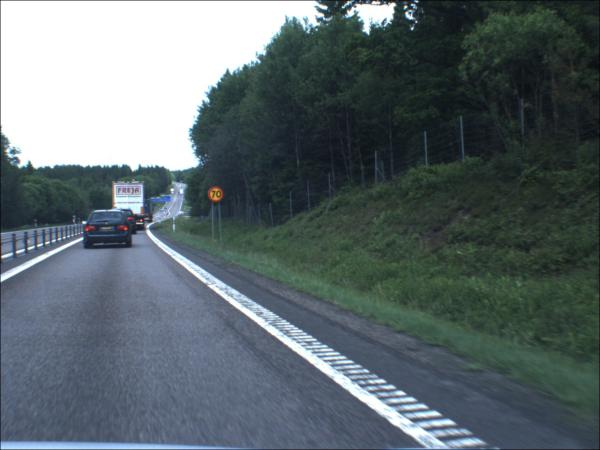70_SIGN: (209, 187, 225, 204)
